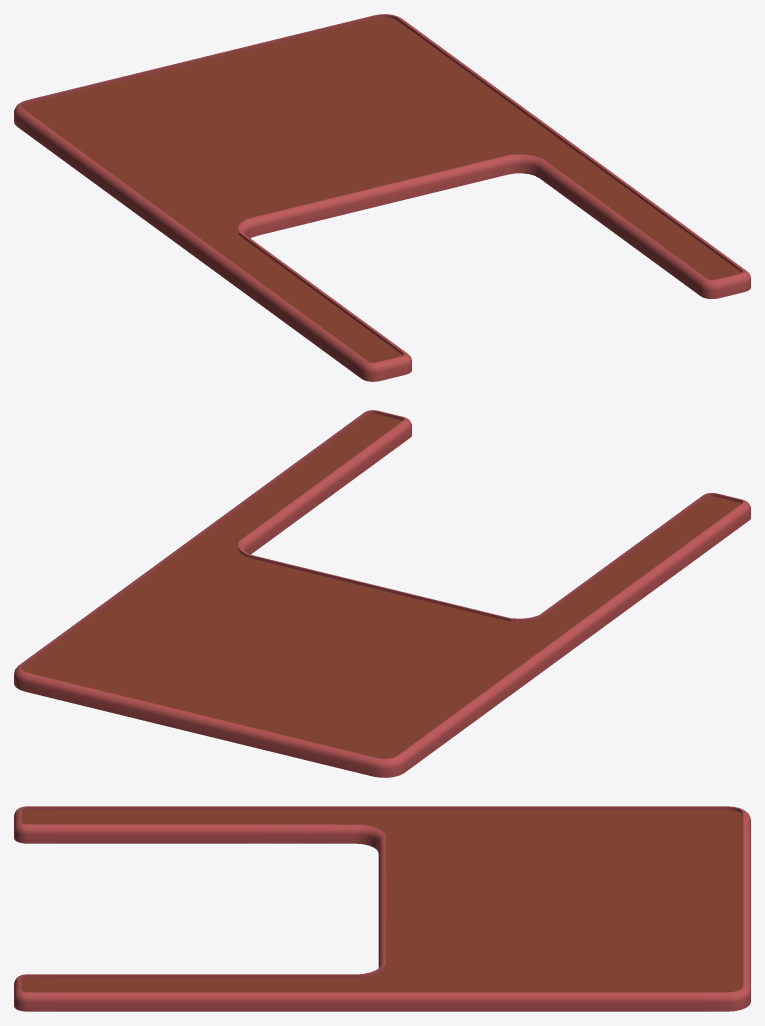
The model's file is wall_7.fbx.
3 renders of one model, top to bottom at view 1: azimuth 30°, elevation 25°; view 2: azimuth 150°, elevation 25°; view 3: azimuth 270°, elevation 25°, orthographic.
Parts seen in each view (by area): view 1: Plane.010; view 2: Plane.010; view 3: Plane.010.
Boxes of the visible parts, x1,y1,x2,y2 form: Plane.010: (14, 14, 750, 381); Plane.010: (14, 410, 750, 777); Plane.010: (14, 806, 750, 1011).
Size of the model in its own units: 4457 by 174 by 7233.
